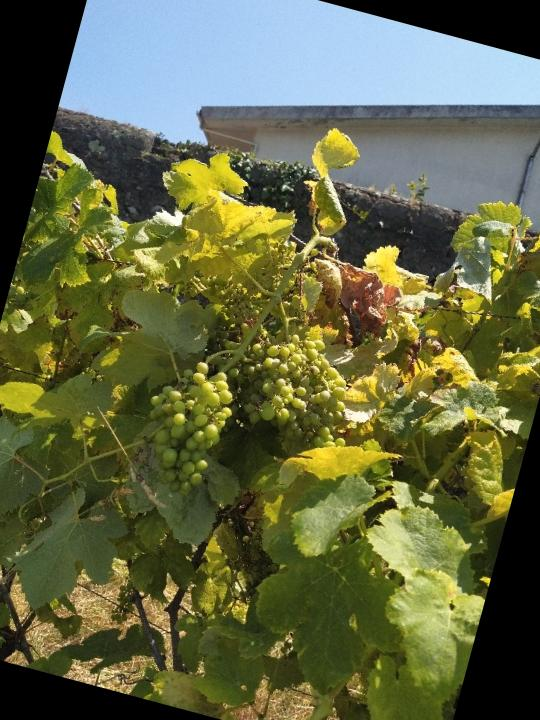grape: (224, 318, 374, 461), (126, 350, 245, 506)
